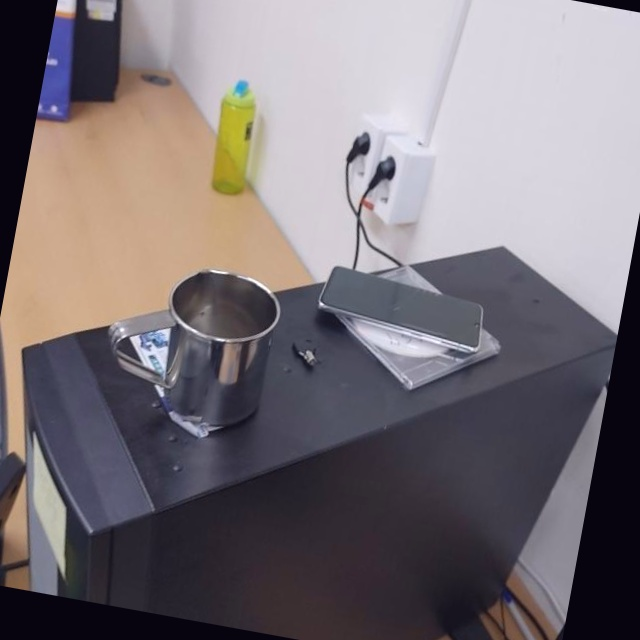cup: (92, 250, 287, 440)
phone: (312, 260, 492, 359)
